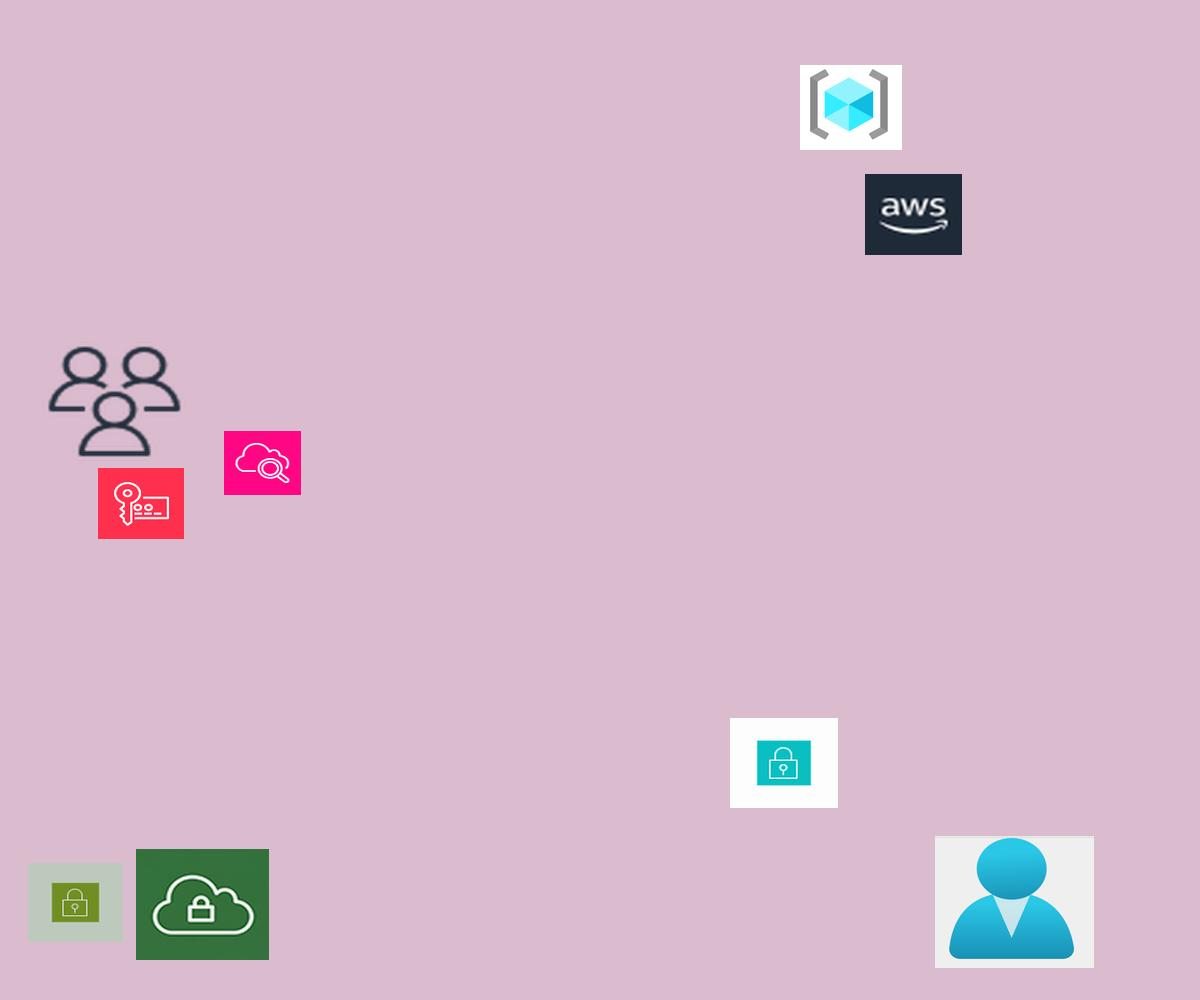AWS-Cloud-logo: (865, 174, 962, 255)
AWS-CloudWatch: (224, 431, 301, 495)
AWS-Key-Management-Service: (98, 468, 184, 539)
AWS-Private-subnet: (730, 718, 838, 808)
AWS-Private_vpc: (136, 849, 269, 960)
AWS-Public-subnet: (28, 863, 123, 942)
AWS-Res_Users: (43, 342, 186, 461)
Azure_resource_group: (800, 65, 902, 150)
Azure_users: (935, 836, 1094, 968)
